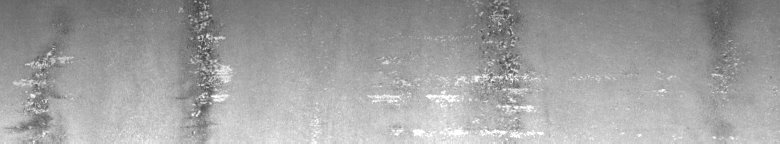hc: (367, 4, 538, 136)
